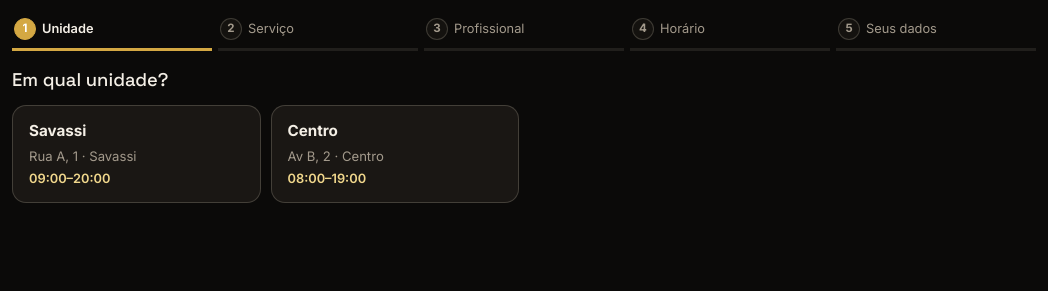
Scenario: AgendarOnline › lista as unidades e avança pro serviço com preço
Click the text "Savassi": (58, 132) left=29, top=120, right=86, bottom=143
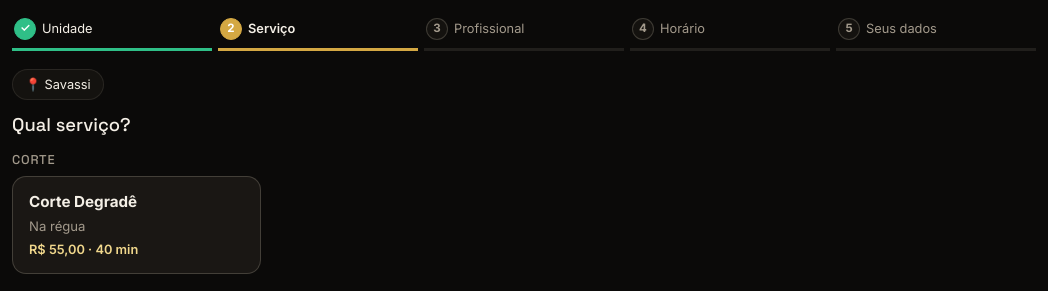
Expected: the heading "Qual serviço?" is shown, left=12, top=113, right=131, bottom=136
Expected: the text "Corte Degradê" is shown, left=29, top=191, right=137, bottom=213
Expected: the text "R$ 55,00 · 40 min" is shown, left=29, top=240, right=138, bottom=259
